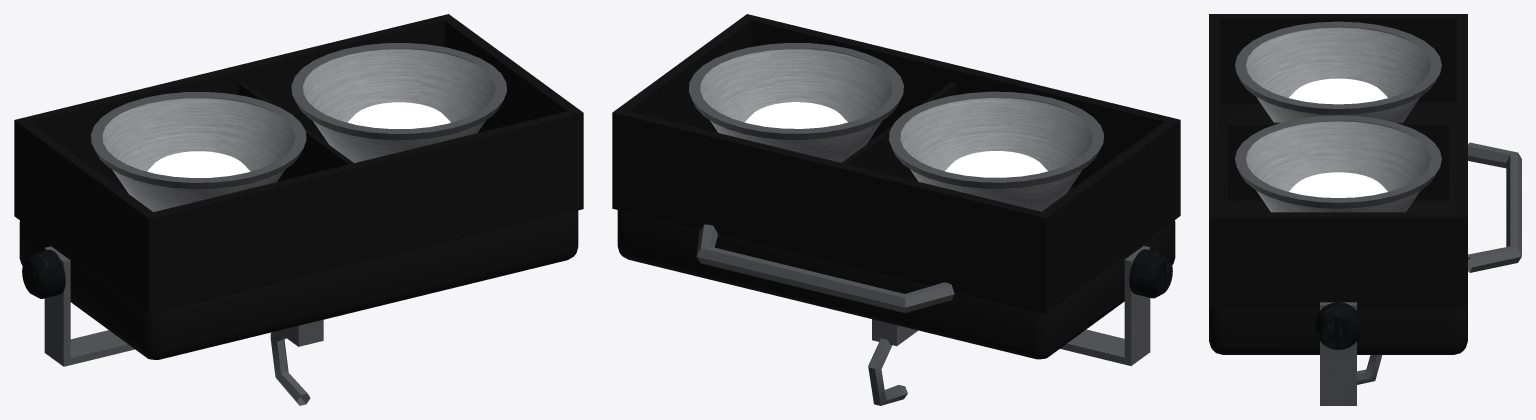
Rendered from blinder_moley_2.gltf.
3 renders of one model, left to right at view 1: azimuth 30°, elevation 25°; view 2: azimuth 150°, elevation 25°; view 3: azimuth 270°, elevation 25°, orthographic. The views are drawn at different scales.
Visible parts, largest first — view 1: blinder_moley_2; view 2: blinder_moley_2; view 3: blinder_moley_2.
Boxes of the visible parts, <box> form: blinder_moley_2: <box>14,14,583,405</box>; blinder_moley_2: <box>612,14,1180,405</box>; blinder_moley_2: <box>1209,14,1521,405</box>.
Size of the model in its own units: 0.642 by 0.3308 by 0.3385.
Materials: 5 (4 with a texture image).
